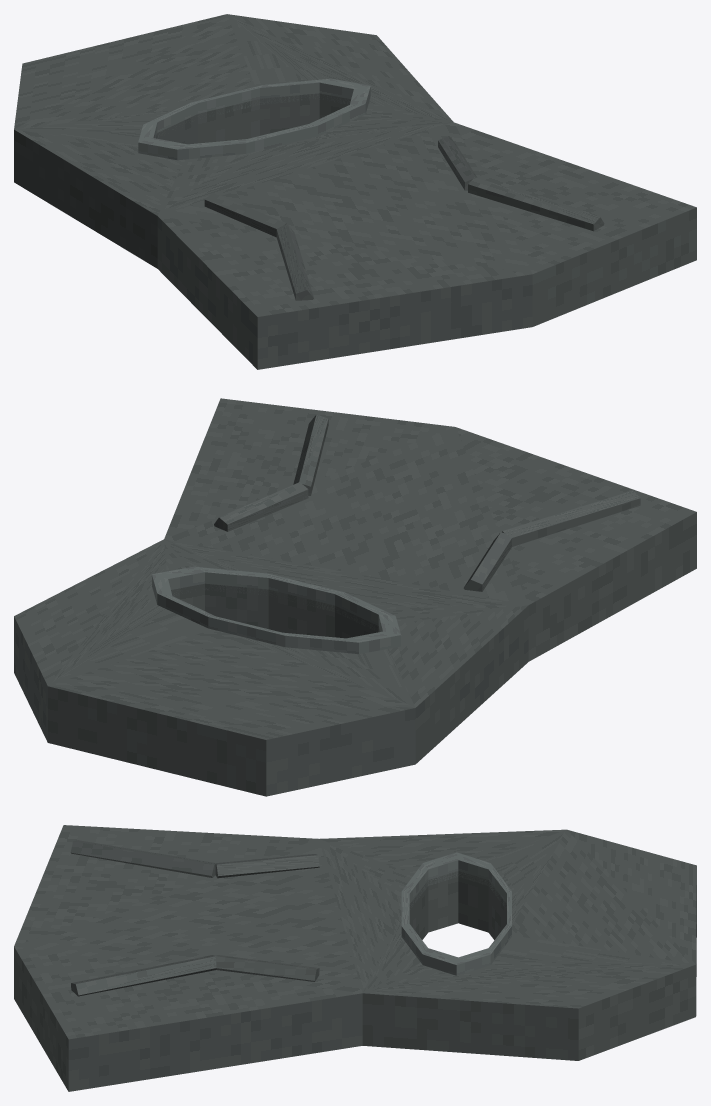
The model's file is balaclava_cut_resistant.glb.
3 views of the same model, one above another, from view 1: azimuth 30°, elevation 25°; view 2: azimuth 150°, elevation 25°; view 3: azimuth 270°, elevation 25° (orthographic). The views are drawn at different scales.
Parts seen in each view (by area): view 1: block_shaped face opening and fabric, block_stitched face border, block_cloth folds 1 (×2), block_cloth folds 0 (×2); view 2: block_shaped face opening and fabric, block_stitched face border, block_cloth folds 1 (×2), block_cloth folds 0 (×2); view 3: block_shaped face opening and fabric, block_stitched face border, block_cloth folds 1 (×2), block_cloth folds 0 (×2).
Boxes of the visible parts, box(x1,y1,x2,y2) form: block_shaped face opening and fabric: box(14, 14, 696, 369); block_stitched face border: box(138, 78, 370, 160); block_cloth folds 1 (×2): box(276, 177, 604, 300); block_cloth folds 0 (×2): box(204, 136, 477, 237); block_shaped face opening and fabric: box(14, 398, 696, 796); block_stitched face border: box(152, 566, 400, 653); block_cloth folds 1 (×2): box(293, 414, 640, 546); block_cloth folds 0 (×2): box(214, 482, 511, 591); block_shaped face opening and fabric: box(14, 825, 696, 1091); block_stitched face border: box(401, 852, 511, 975); block_cloth folds 1 (×2): box(70, 840, 216, 996); block_cloth folds 0 (×2): box(215, 854, 319, 981).
Size of the model in its own units: 0.1203 by 0.0168 by 0.1619.
Materials: 1 (1 with a texture image).
